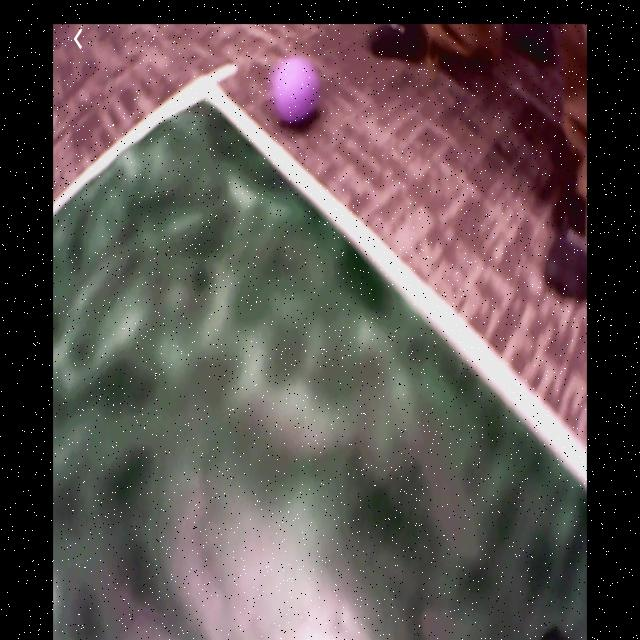ball: (272, 56, 318, 121)
